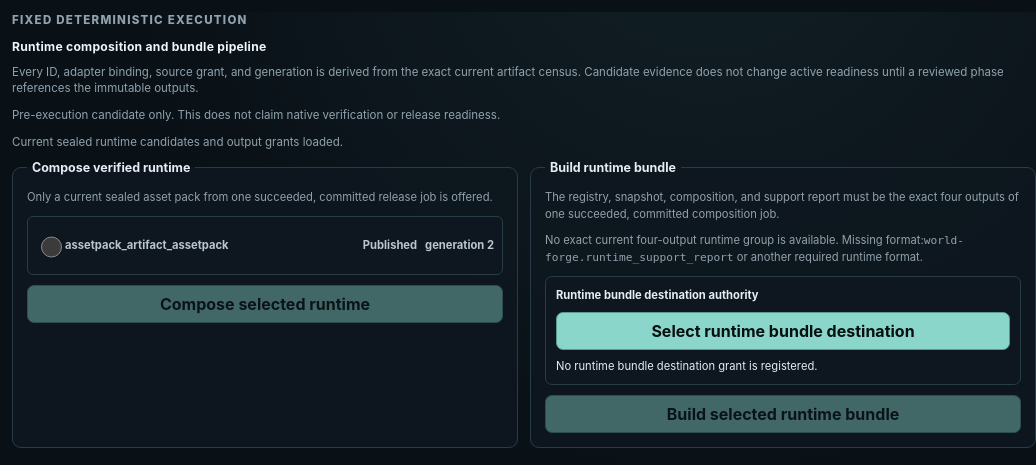
CreationRuntimePipeline › suppresses an identical queued composition and adopts the shared job controller
Click the radio button at x=52, y=247, box x1=41 y1=228 x2=62 y2=266
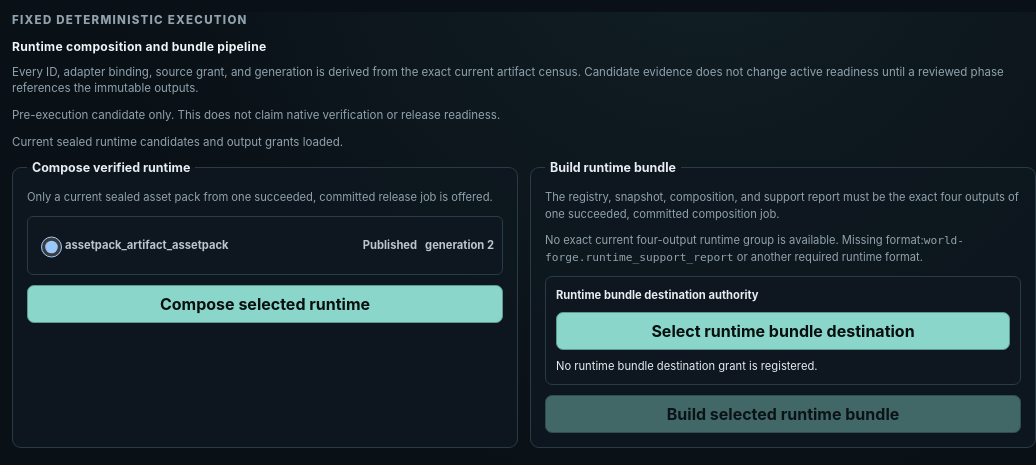
Click the button "Compose selected runtime" at x=265, y=304, box x1=27 y1=285 x2=503 y2=323
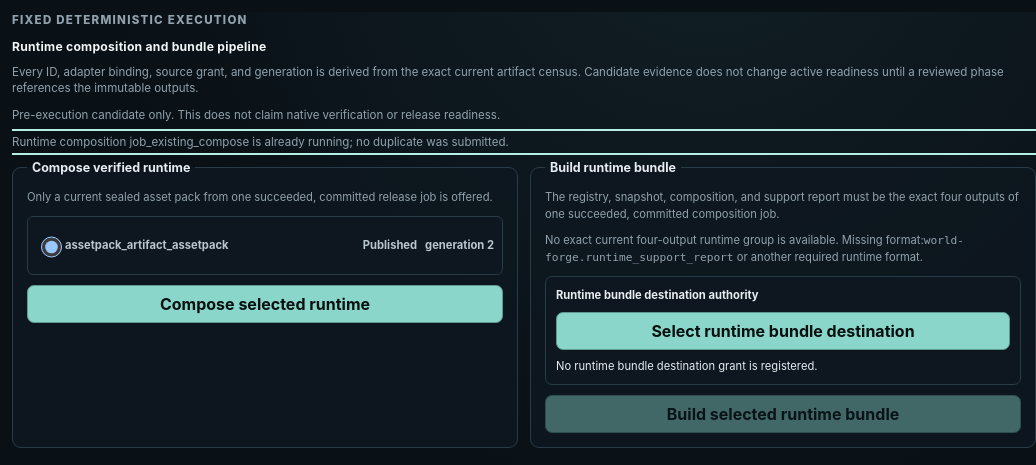
Expected: the text "already running; no duplicate was submitted" is shown, x1=12 y1=135 x2=509 y2=149
